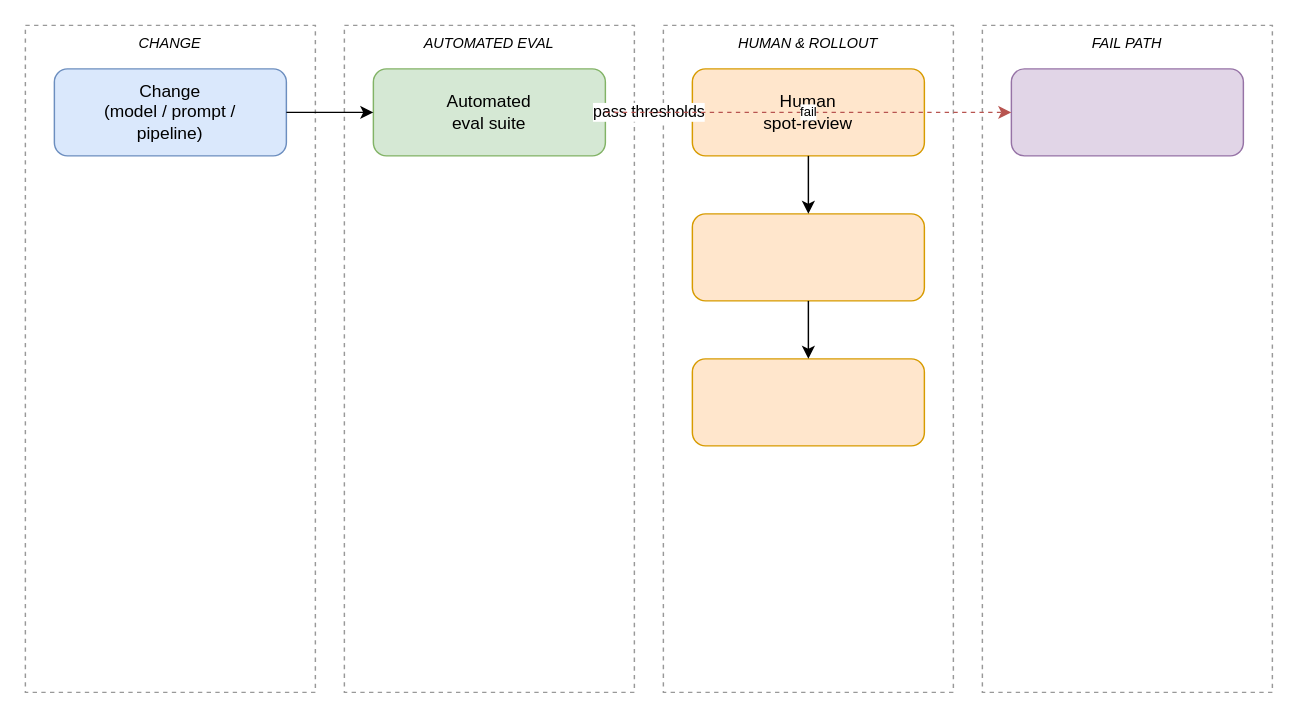
Some shapes in this 1298 by 718 pixel diagram are drawn without their labels. The shapes that lost their labels are listed below. From the top down, each one's centre as x and y in pixels, then its label:
the point at 1126,111: Block + alert
the point at 807,256: Canary
the point at 807,401: Full rollout + monitor
